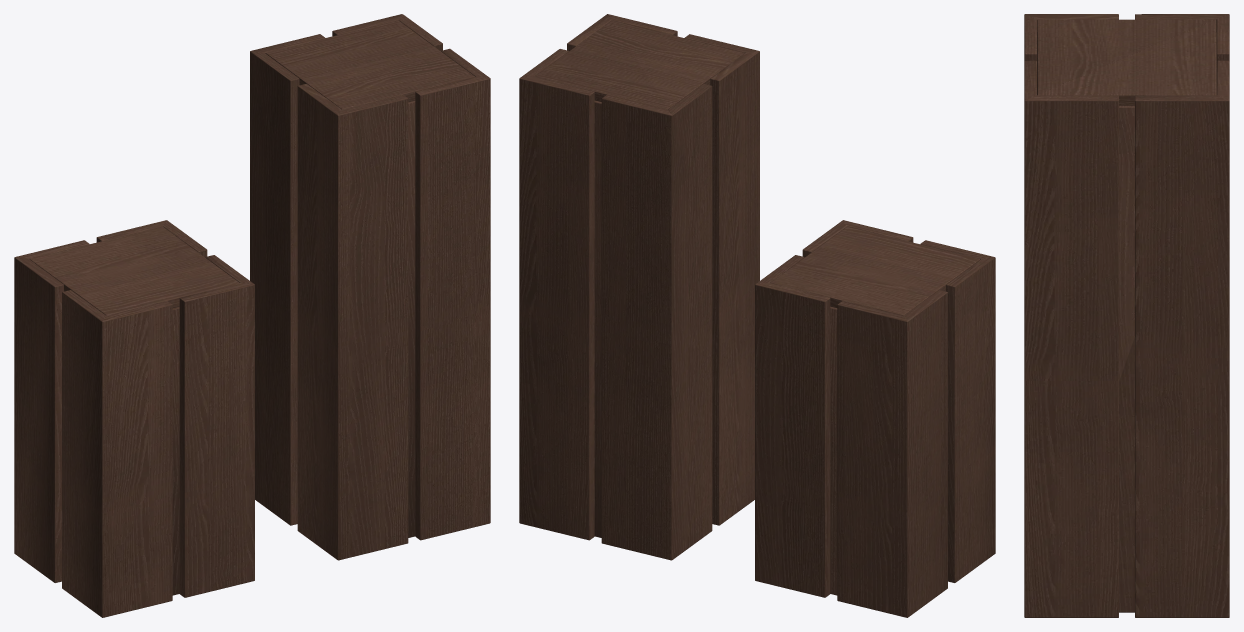
Rendered from dimensiva-parcel-pedestal-by-ferm-living.optimized.glb.
3 views of the same model, side by side, from view 1: azimuth 30°, elevation 25°; view 2: azimuth 150°, elevation 25°; view 3: azimuth 270°, elevation 25° (orthographic). The views are drawn at different scales.
Visible parts, largest first — view 1: Parcel Pedestal H90; view 2: Parcel Pedestal H90; view 3: Parcel Pedestal H90.
Part boxes in pixels (bbox=[...]): Parcel Pedestal H90: bbox=[14, 14, 490, 617]; Parcel Pedestal H90: bbox=[519, 14, 995, 617]; Parcel Pedestal H90: bbox=[1024, 14, 1229, 617].
Bounding box in the file's own units: 0.8222 × 0.9007 × 0.3235.
1 material, 1 textured.
